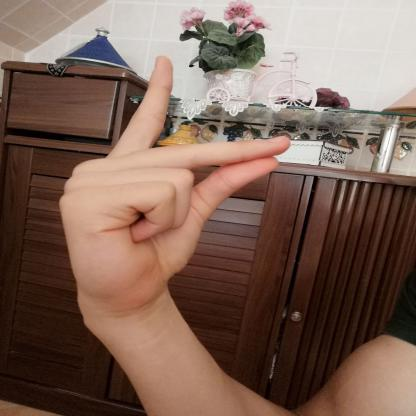TAA: (43, 44, 308, 329)
